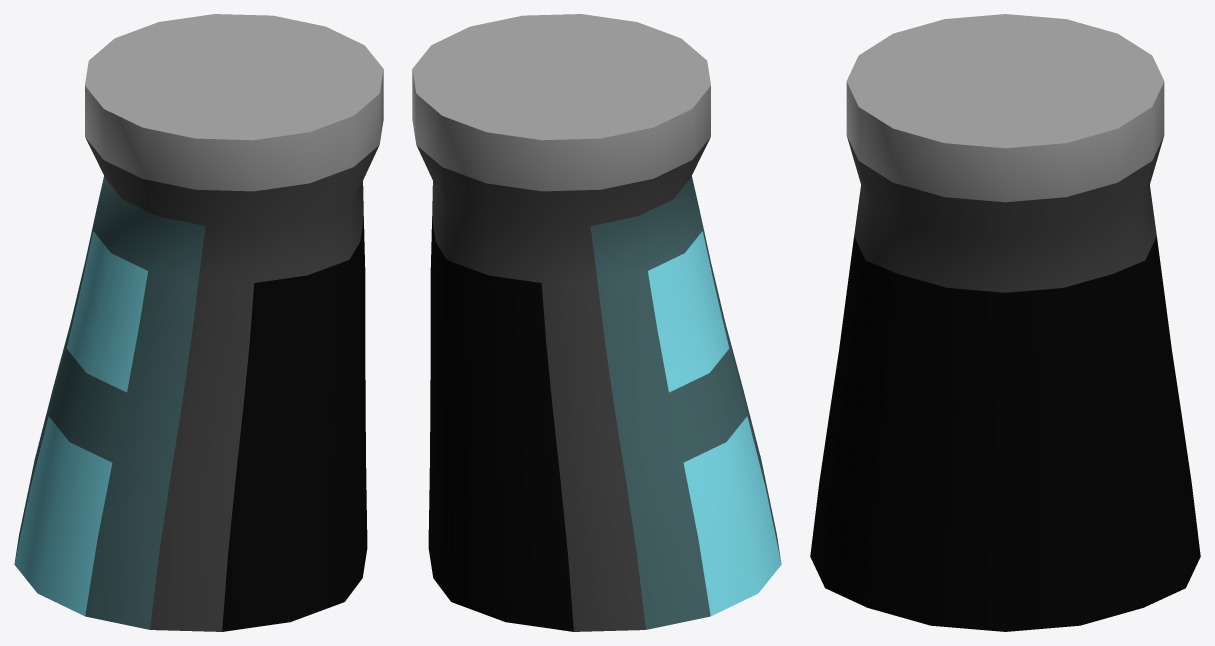
File: CapsuleCryo.fbx
3 renders of one model, left to right at view 1: azimuth 30°, elevation 25°; view 2: azimuth 150°, elevation 25°; view 3: azimuth 270°, elevation 25°, orthographic. The views are drawn at different scales.
Visible parts, largest first — view 1: Capsule; view 2: Capsule; view 3: Capsule.
Boxes of the visible parts, left/top/right/bottom form: Capsule: left=14, top=14, right=383, bottom=631; Capsule: left=412, top=14, right=781, bottom=631; Capsule: left=810, top=14, right=1200, bottom=631.
Bounding box in the file's own units: 40.81 × 55.86 × 40.
